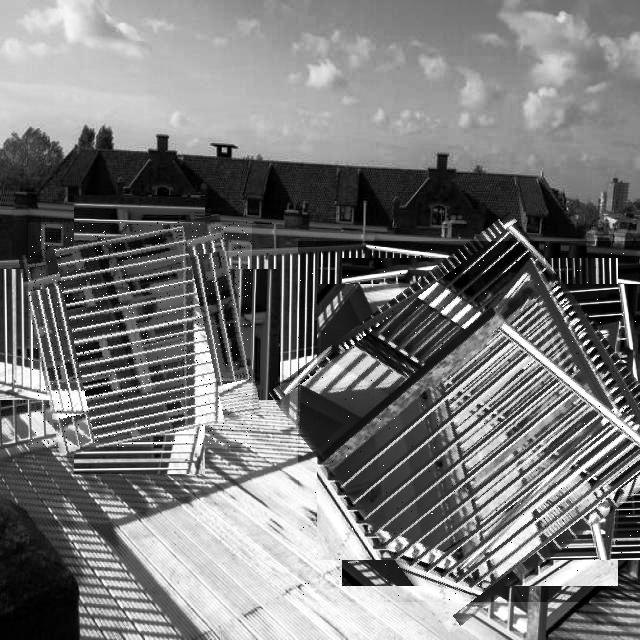fences: (298, 241, 640, 602), (28, 222, 252, 447)
